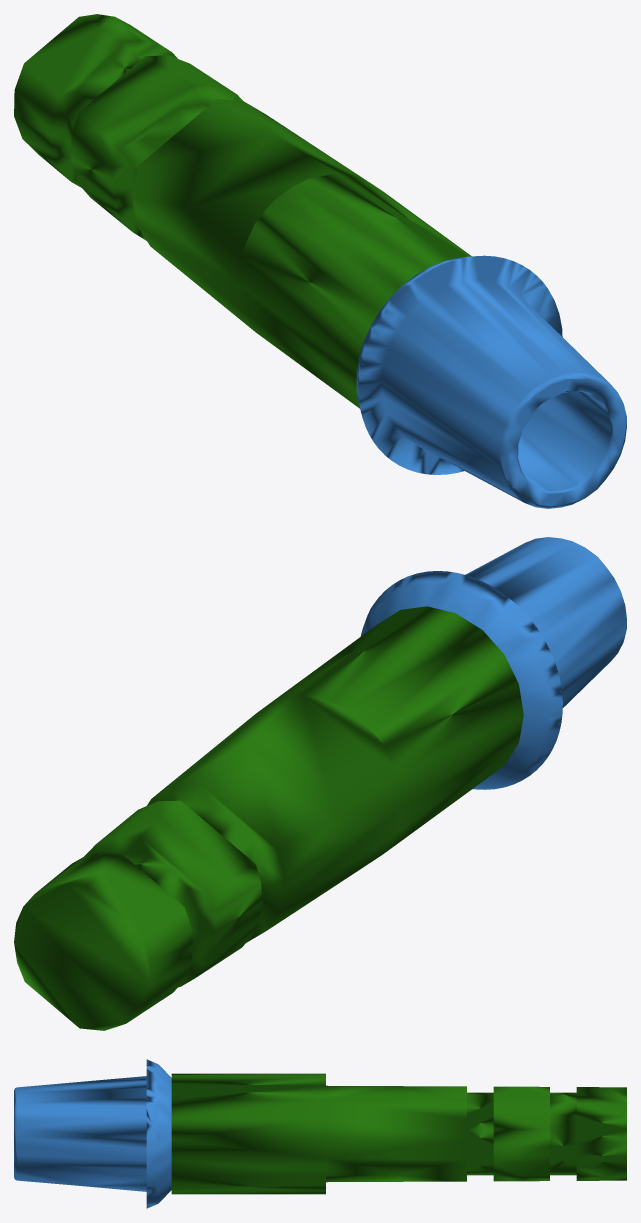
Rendered from 3.5_impl_Conical.obj.
3 renders of one model, top to bottom at view 1: azimuth 30°, elevation 25°; view 2: azimuth 150°, elevation 25°; view 3: azimuth 270°, elevation 25°, orthographic. The views are drawn at different scales.
Size of the model in its own units: 4.5 by 4.5 by 18.47.
